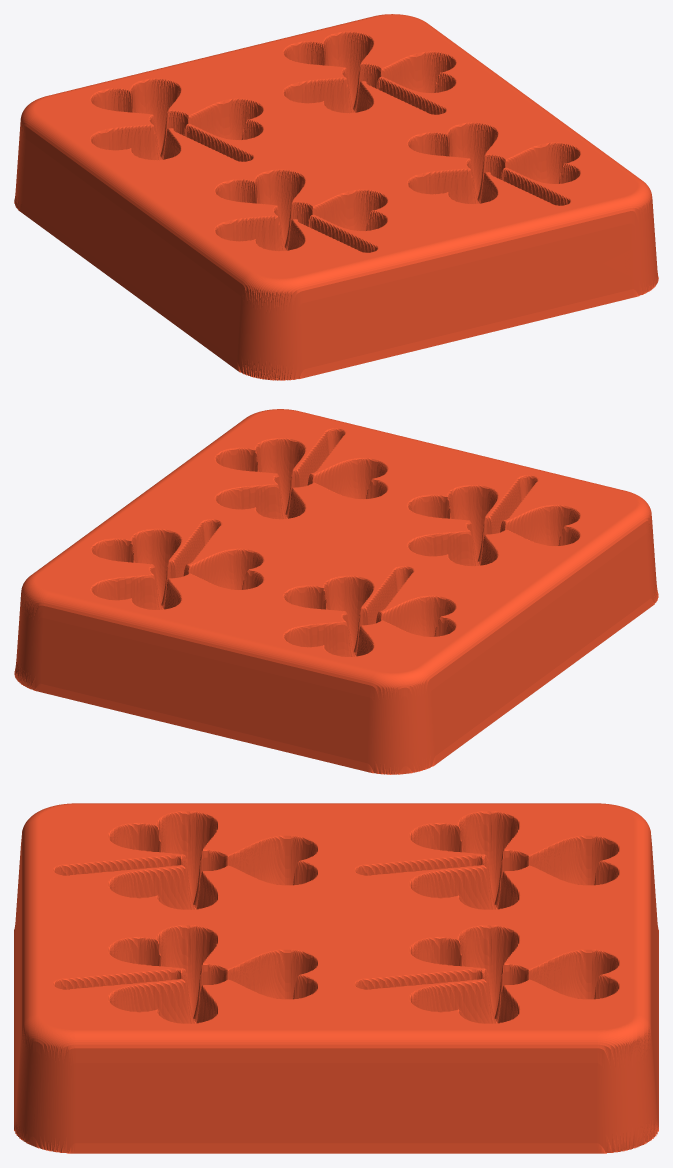
Rendered from mold.glb.
3 renders of one model, top to bottom at view 1: azimuth 30°, elevation 25°; view 2: azimuth 150°, elevation 25°; view 3: azimuth 270°, elevation 25°, orthographic. The views are drawn at different scales.
Parts seen in each view (by area): view 1: geometry_0; view 2: geometry_0; view 3: geometry_0.
Part boxes in pixels (box(x1,y1,x2,y2)): geometry_0: box(14, 14, 658, 380); geometry_0: box(14, 409, 658, 774); geometry_0: box(14, 803, 658, 1153).
Size of the model in its own units: 0.085 by 0.0182 by 0.0942.
